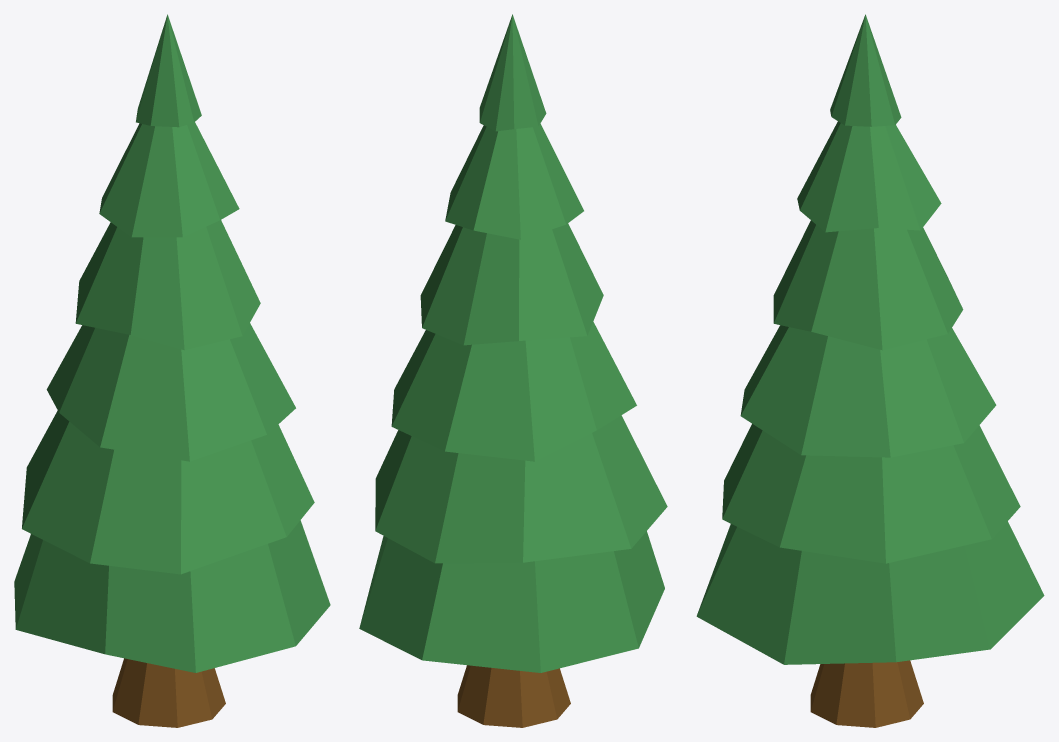
Rendered from Sapins1Tailles.fbx.
3 renders of one model, left to right at view 1: azimuth 30°, elevation 25°; view 2: azimuth 150°, elevation 25°; view 3: azimuth 270°, elevation 25°, orthographic.
Parts seen in each view (by area): view 1: Cylinder.001; view 2: Cylinder.001; view 3: Cylinder.001.
Part boxes in pixels (x1=…): Cylinder.001: x1=14, y1=14, x2=330, y2=727; Cylinder.001: x1=359, y1=14, x2=667, y2=727; Cylinder.001: x1=696, y1=14, x2=1044, y2=727.
Size of the model in its own units: 263 by 653 by 299.
